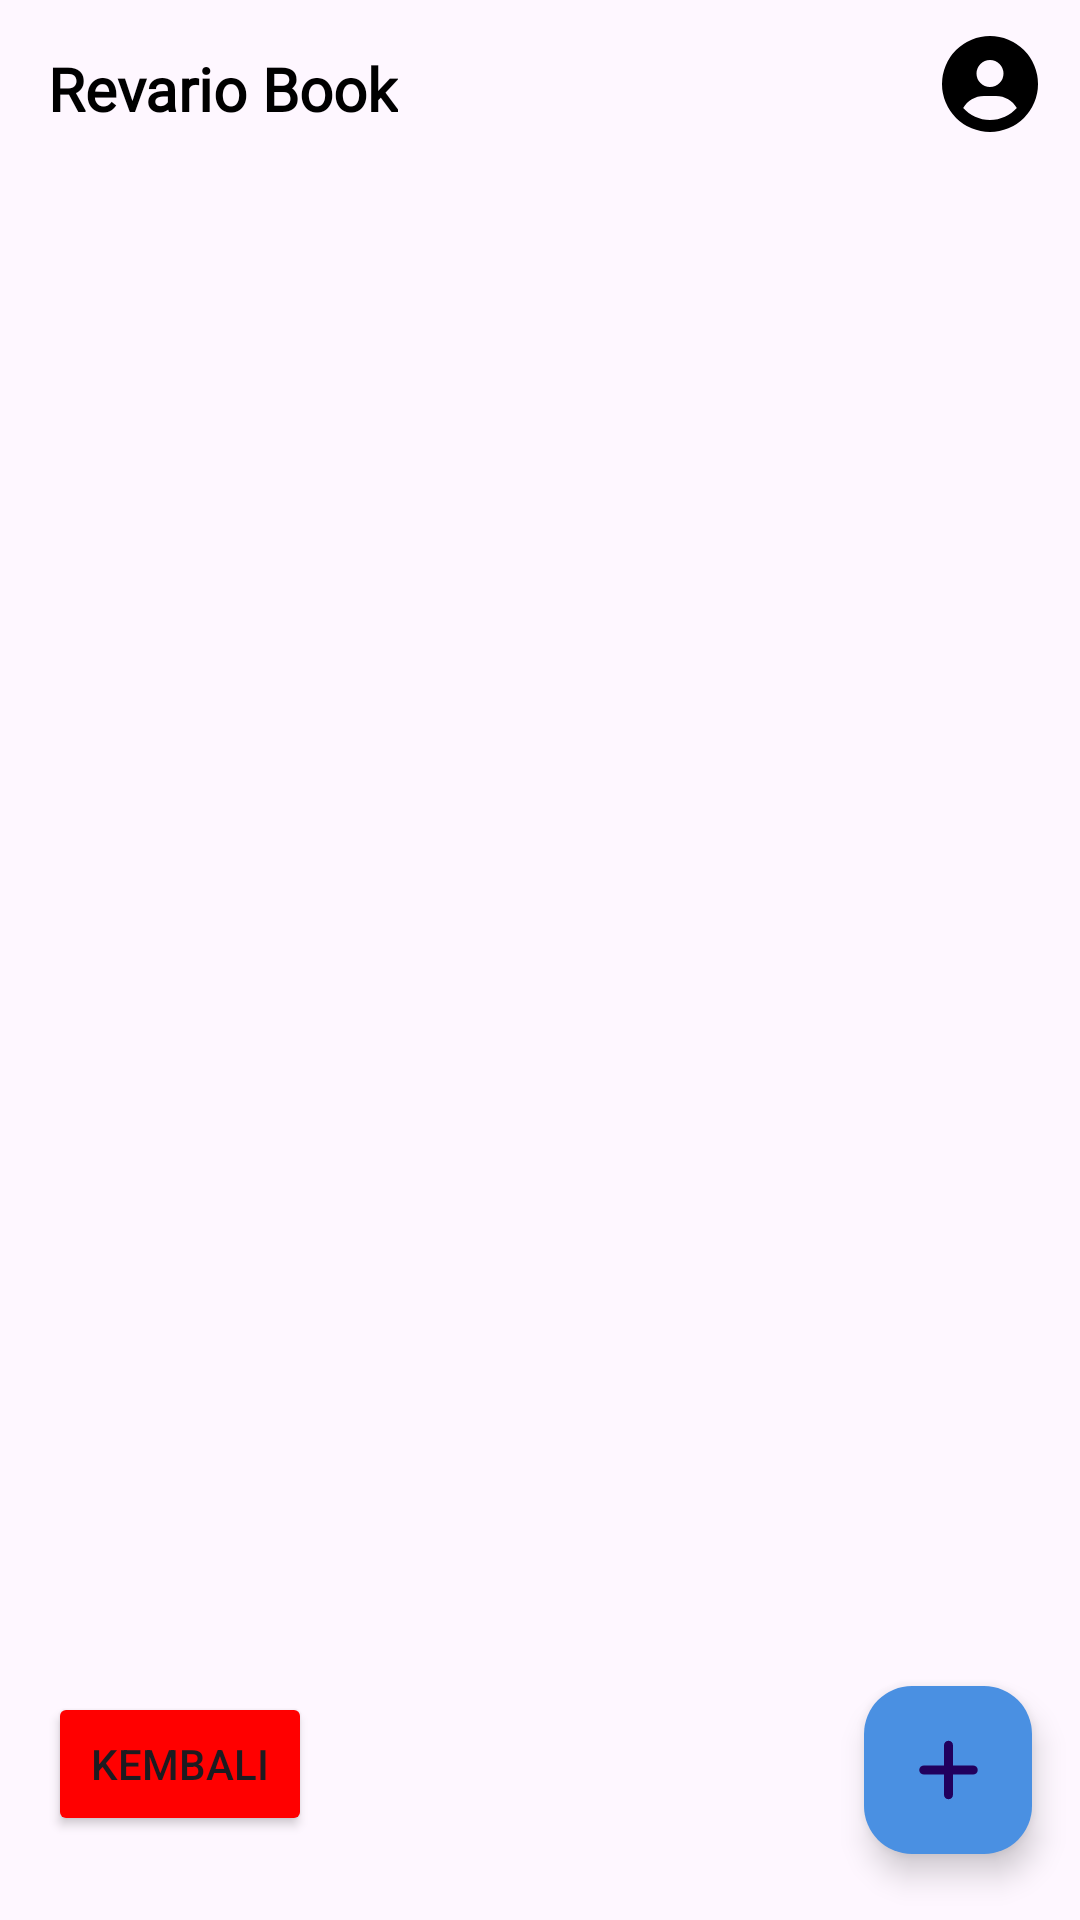

Screen size 1080x1920. Icon name, then its center in pixels as [x,y]:
Tambah: [948,1770]
